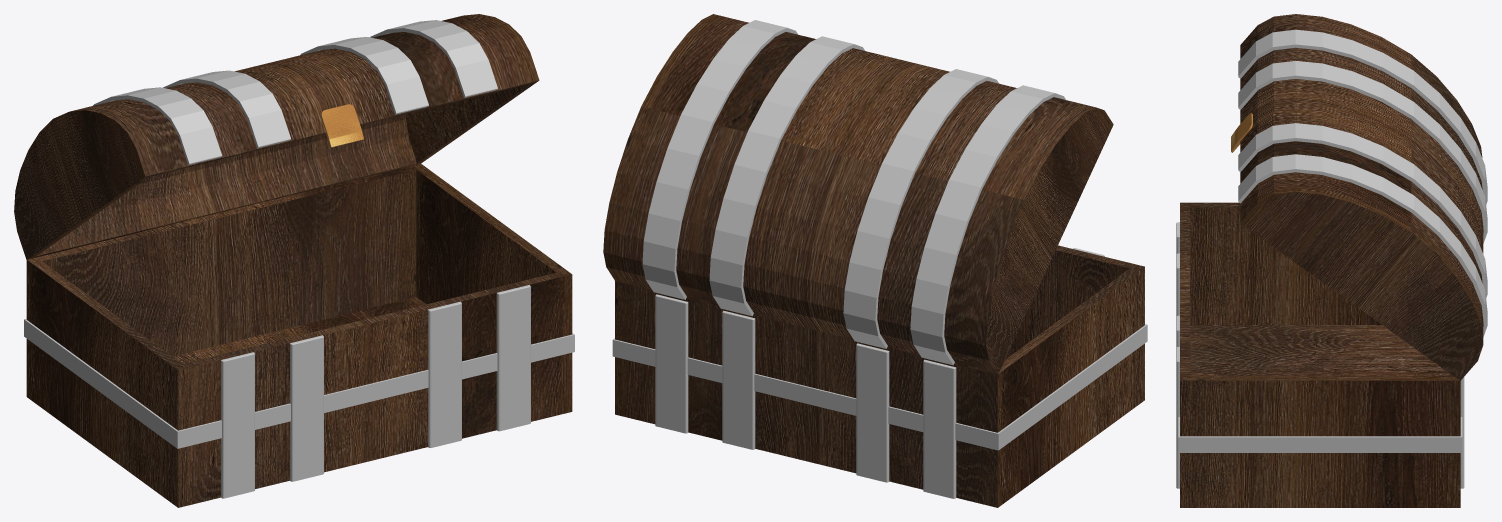
File: Coffre_KOT 1.fbx
3 renders of one model, left to right at view 1: azimuth 30°, elevation 25°; view 2: azimuth 150°, elevation 25°; view 3: azimuth 270°, elevation 25°, orthographic. The views are drawn at different scales.
Visible parts, largest first — view 1: contenant, couvercle, renfort_avant, renfort_couvercle, barre_horizontal, fermeture; view 2: couvercle, contenant, renfort_couvercle, renfort_arriere, barre_horizontal; view 3: contenant, couvercle, renfort_couvercle, barre_horizontal, renfort_avant, renfort_arriere, fermeture.
Part boxes in pixels (x1,y1,x2,y2): contenant: [26, 164, 572, 507]; couvercle: [14, 14, 539, 259]; renfort_avant: [221, 285, 530, 498]; renfort_couvercle: [93, 20, 497, 165]; barre_horizontal: [24, 318, 574, 448]; fermeture: [321, 104, 363, 147]; couvercle: [603, 14, 1113, 374]; contenant: [615, 245, 1144, 507]; renfort_couvercle: [642, 20, 1065, 365]; renfort_arriere: [655, 294, 956, 498]; barre_horizontal: [612, 324, 1147, 450]; contenant: [1180, 202, 1460, 507]; couvercle: [1240, 14, 1483, 380]; renfort_couvercle: [1238, 29, 1487, 336]; barre_horizontal: [1178, 417, 1462, 452]; renfort_avant: [1176, 222, 1179, 488]; renfort_arriere: [1460, 377, 1464, 488]; fermeture: [1231, 113, 1252, 152].
Bounding box in the file's own units: 121 × 100 × 88.64.
